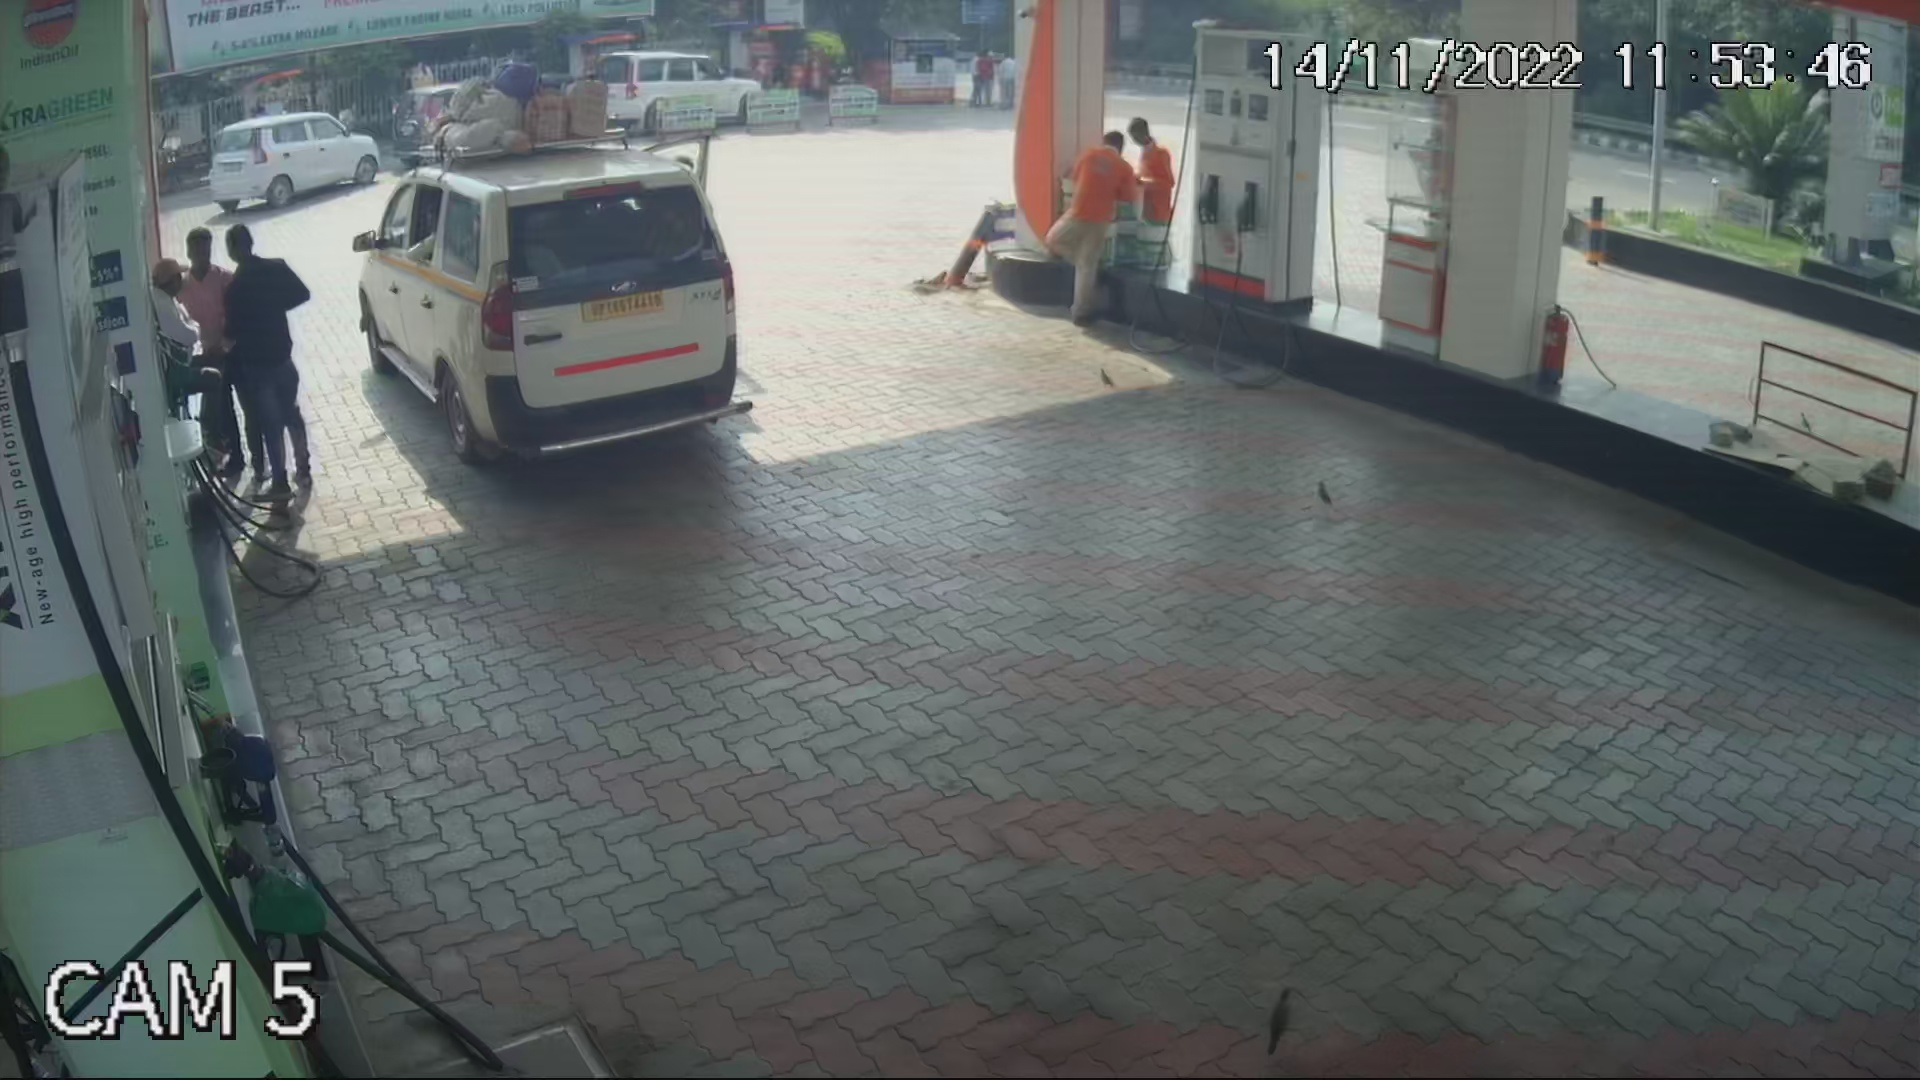Car: (339, 120, 765, 480), (206, 92, 390, 223), (579, 32, 767, 145), (384, 84, 522, 166)
Others: (1043, 127, 1139, 320), (1124, 109, 1178, 241)
